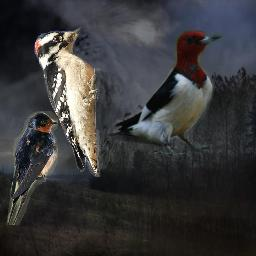Swallow: (5, 111, 58, 225)
Woodpecker: (107, 30, 225, 157), (34, 27, 101, 177)
